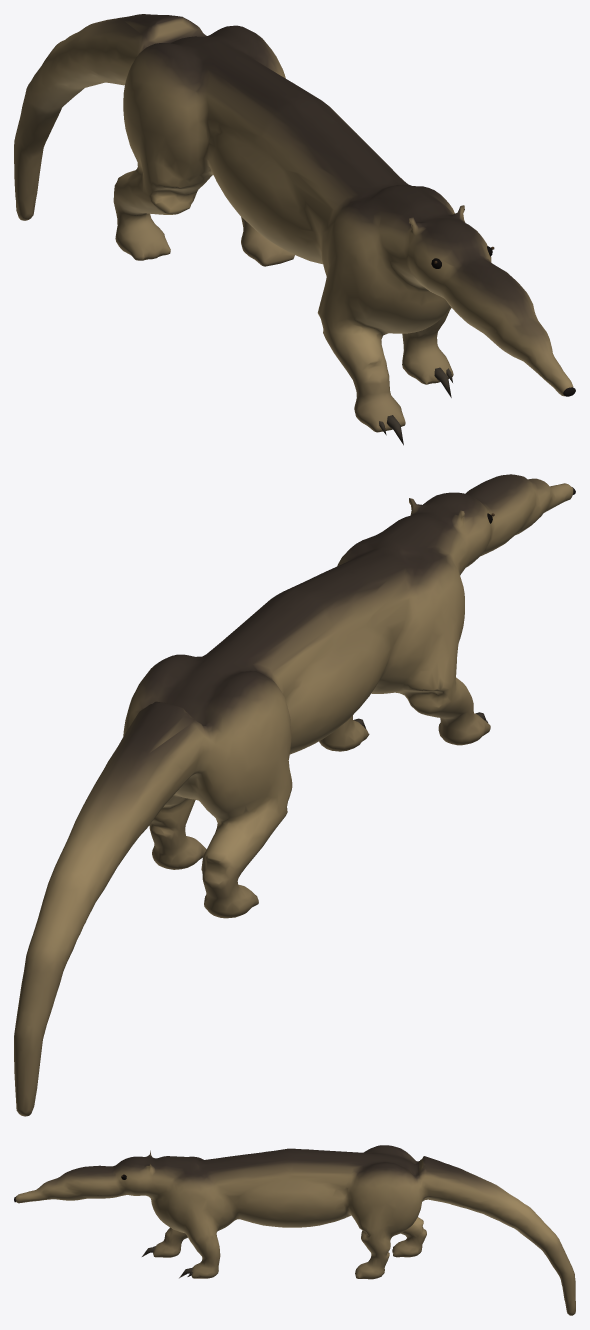
The model's file is EurotamanduaJoresi.fbx.
3 views of the same model, one above another, from view 1: azimuth 30°, elevation 25°; view 2: azimuth 150°, elevation 25°; view 3: azimuth 270°, elevation 25° (orthographic). The views are drawn at different scales.
Parts seen in each view (by area): view 1: EurotamanduaJoresi; view 2: EurotamanduaJoresi; view 3: EurotamanduaJoresi.
Part boxes in pixels (x1=…): EurotamanduaJoresi: x1=14, y1=14, x2=575, y2=445; EurotamanduaJoresi: x1=14, y1=474, x2=575, y2=1116; EurotamanduaJoresi: x1=14, y1=1145, x2=575, y2=1315.
Bounding box in the file's own units: 0.2645 × 0.5803 × 1.8.
